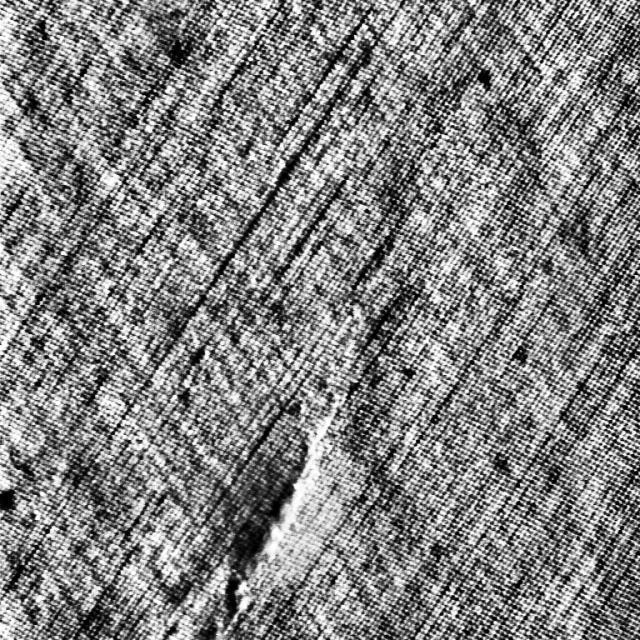gray stitch: (212, 420, 335, 635)
